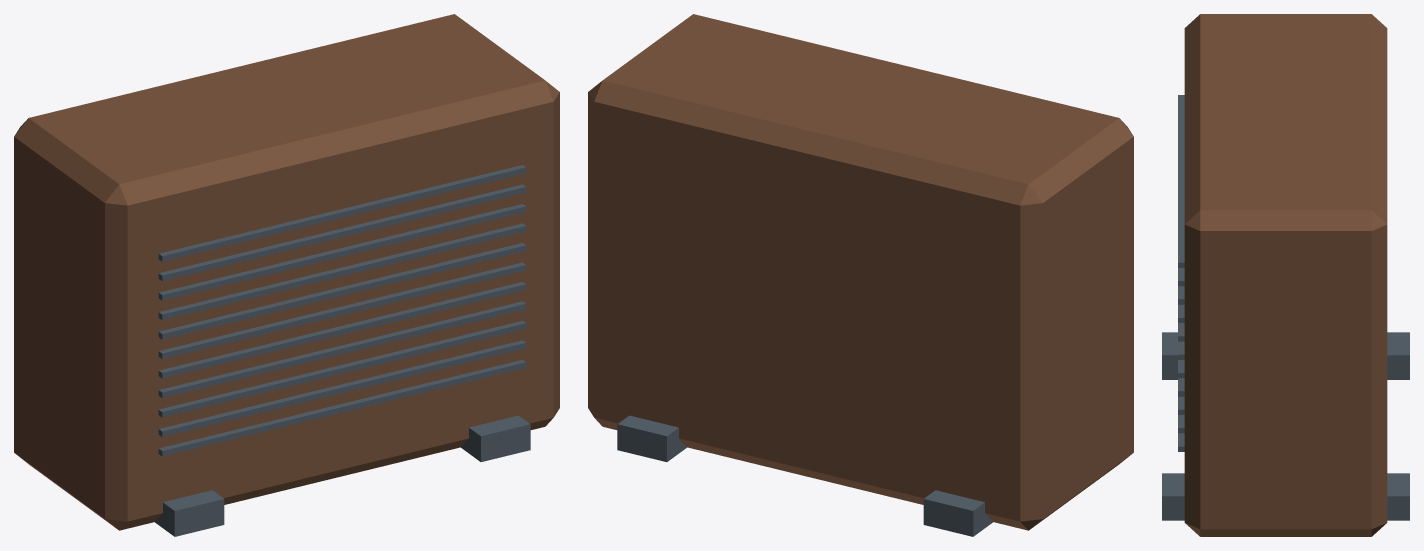
Rendered from ac_unit.glb.
The picture shows the model from 3 angles, left to right: view 1: azimuth 30°, elevation 25°; view 2: azimuth 150°, elevation 25°; view 3: azimuth 270°, elevation 25°; orthographic projection. The views are drawn at different scales.
Visible parts, largest first — view 1: Housing, Vent.003, Vent.002, Vent.004, Vent.007, Vent, Vent.001, Vent.008, Vent.005, Vent.006, Vent.009, Vent.010 (+2 smaller); view 2: Housing, Foot, Foot.001; view 3: Housing, Foot.001, Foot, Vent.010.
Boxes of the visible parts, x1=… form: Housing: x1=14, y1=14, x2=559, y2=530; Vent.003: x1=158, y1=301, x2=526, y2=398; Vent.002: x1=158, y1=320, x2=526, y2=417; Vent.004: x1=158, y1=282, x2=526, y2=378; Vent.007: x1=158, y1=223, x2=526, y2=320; Vent: x1=158, y1=359, x2=526, y2=456; Vent.001: x1=158, y1=340, x2=526, y2=436; Vent.008: x1=158, y1=204, x2=526, y2=300; Vent.005: x1=158, y1=262, x2=526, y2=359; Vent.006: x1=158, y1=243, x2=526, y2=339; Vent.009: x1=158, y1=184, x2=526, y2=281; Vent.010: x1=158, y1=165, x2=526, y2=261; Housing: x1=588, y1=14, x2=1133, y2=530; Foot: x1=923, y1=490, x2=992, y2=536; Foot.001: x1=617, y1=415, x2=686, y2=461; Housing: x1=1184, y1=14, x2=1387, y2=536; Foot.001: x1=1162, y1=473, x2=1409, y2=520; Foot: x1=1162, y1=332, x2=1409, y2=379; Vent.010: x1=1178, y1=95, x2=1184, y2=267.
Size of the model in its own units: 1.1 by 0.8 by 0.55.
Materials: 1 (1 with a texture image).
